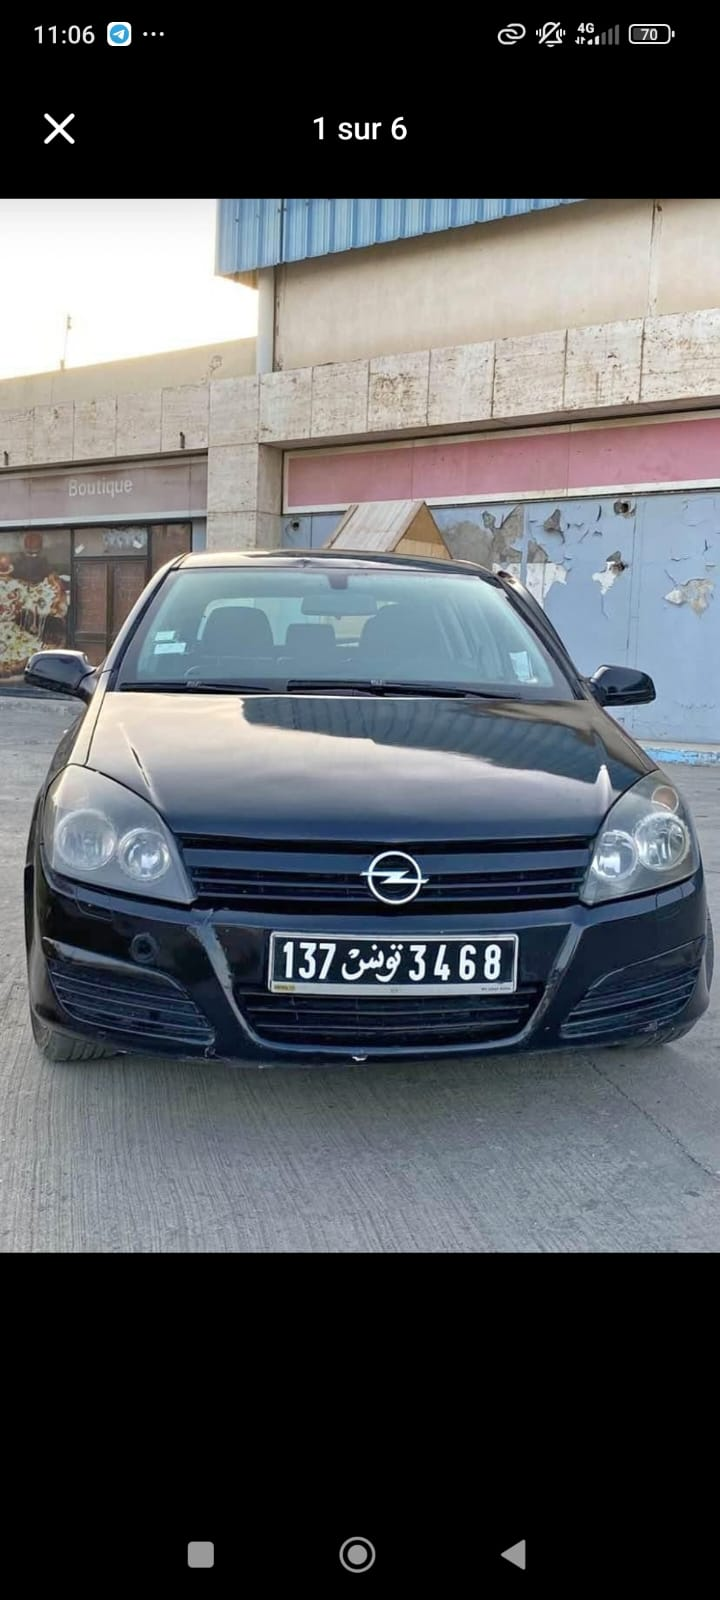plate: (13, 538, 720, 1098)
